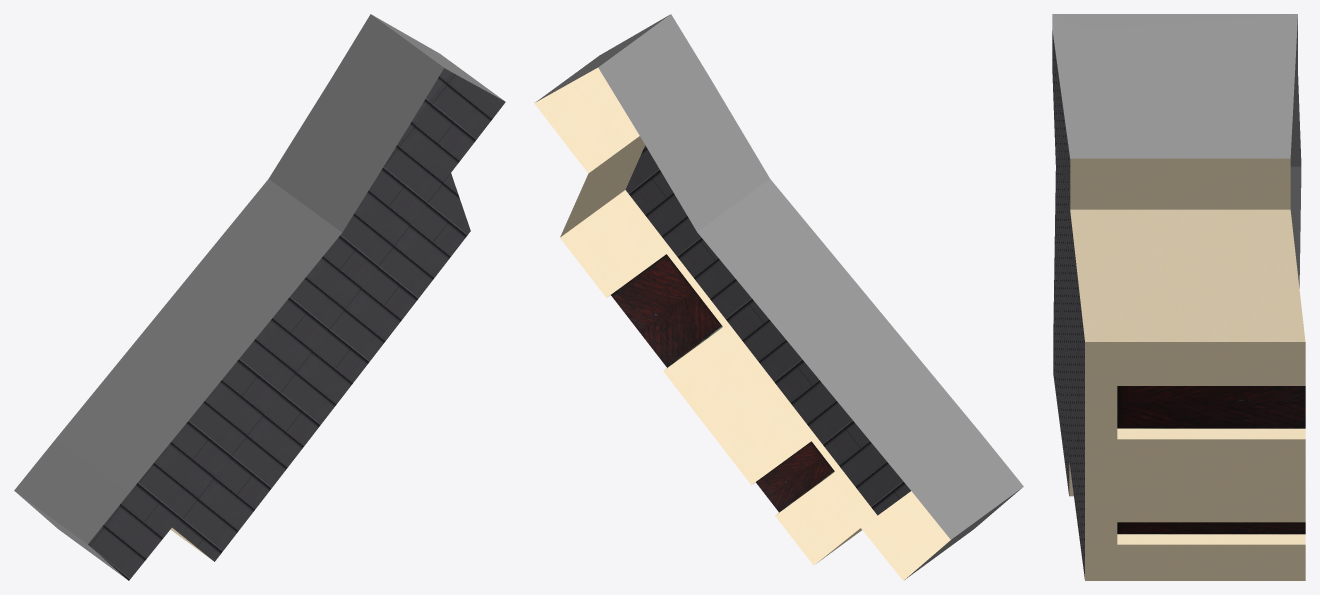
Rendered from Sauna_3a.obj.
3 renders of one model, left to right at view 1: azimuth 30°, elevation 25°; view 2: azimuth 150°, elevation 25°; view 3: azimuth 270°, elevation 25°, orthographic. The views are drawn at different scales.
Parts seen in each view (by area): view 1: sauna3a, xxx; view 2: sauna3a, xxx; view 3: sauna3a, xxx.
Boxes of the visible parts, x1=… form: sauna3a: x1=88, y1=68, x2=505, y2=580; xxx: x1=14, y1=14, x2=503, y2=579; sauna3a: x1=534, y1=67, x2=950, y2=580; xxx: x1=535, y1=14, x2=1023, y2=579; sauna3a: x1=1052, y1=30, x2=1305, y2=580; xxx: x1=1052, y1=14, x2=1301, y2=288.
Size of the model in its own units: 12.22 by 12.35 by 3.8.
